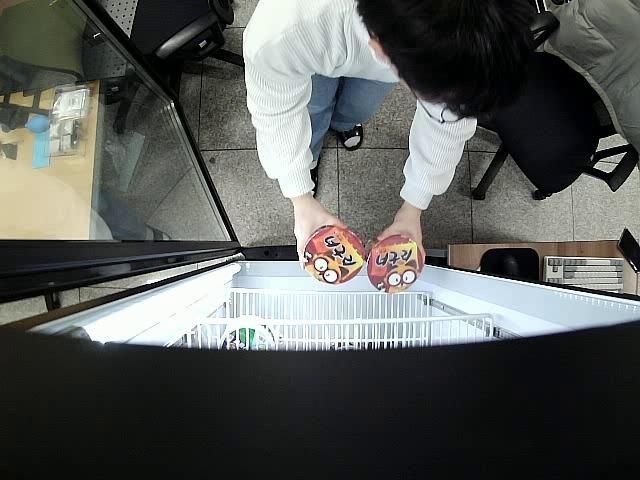05_nuguri_L: (303, 226, 366, 284), (368, 234, 423, 294)
